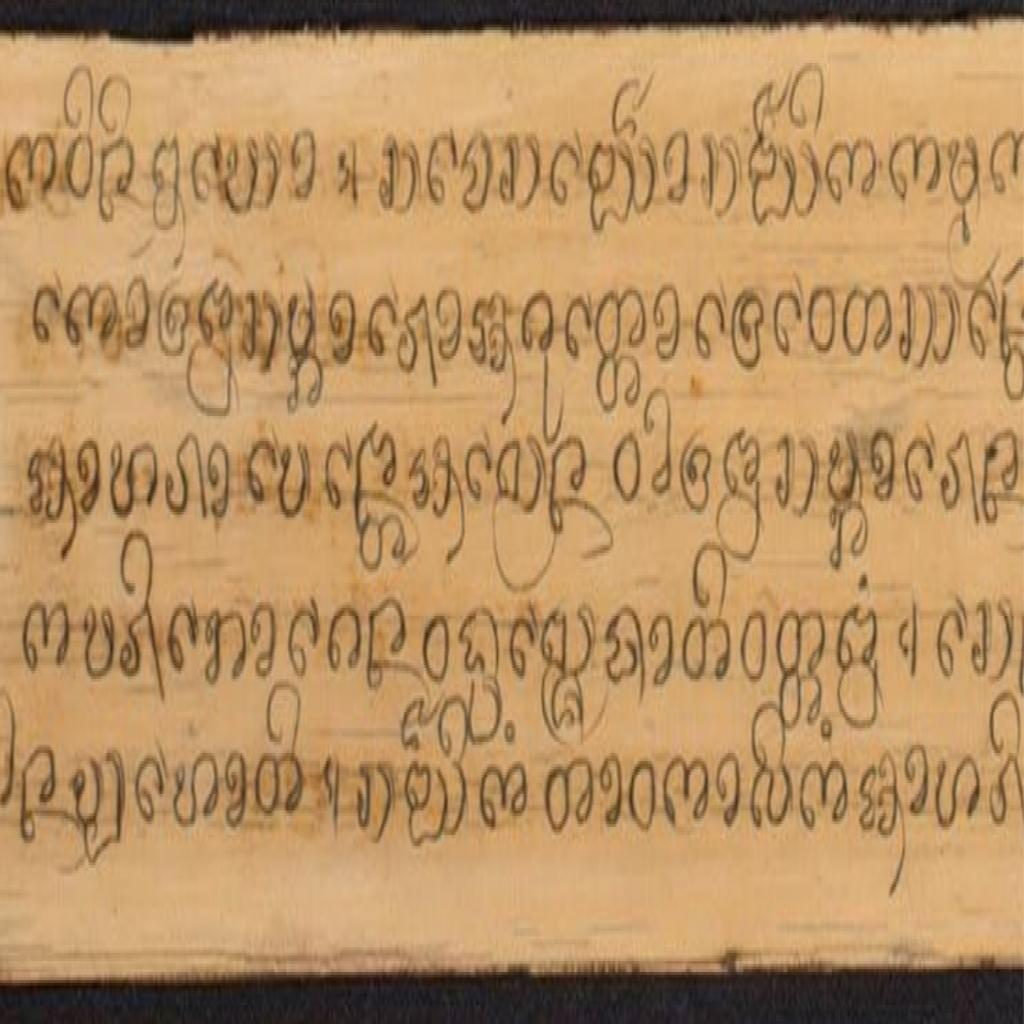LN002: (150, 128, 188, 279)
